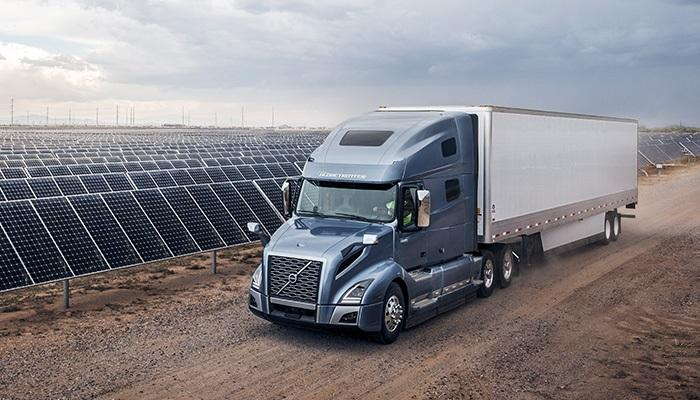卡车: (244, 95, 655, 341)
